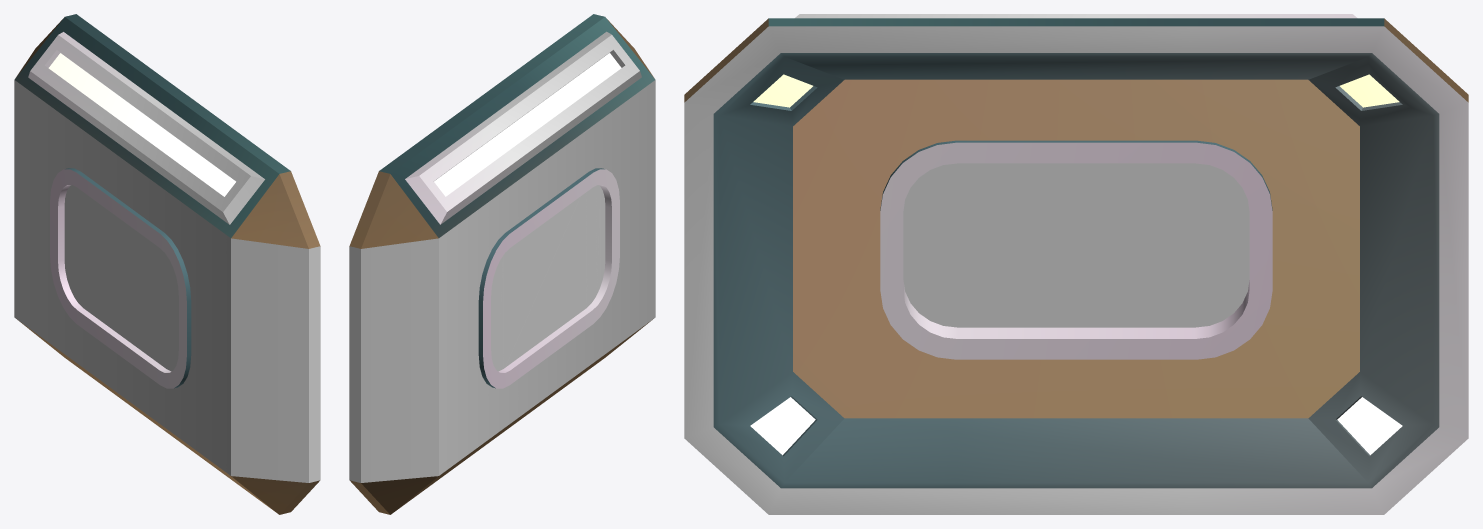
Rendered from C_CapWindow.fbx.
The picture shows the model from 3 angles, left to right: view 1: azimuth 30°, elevation 25°; view 2: azimuth 150°, elevation 25°; view 3: azimuth 270°, elevation 25°; orthographic projection. The views are drawn at different scales.
Visible parts, largest first — view 1: C_CapWindow; view 2: C_CapWindow; view 3: C_CapWindow.
Boxes of the visible parts, <box> form: C_CapWindow: <box>14,14,320,514</box>; C_CapWindow: <box>349,14,655,514</box>; C_CapWindow: <box>684,14,1468,514</box>.
Size of the model in its own units: 66.08 by 330 by 480.
